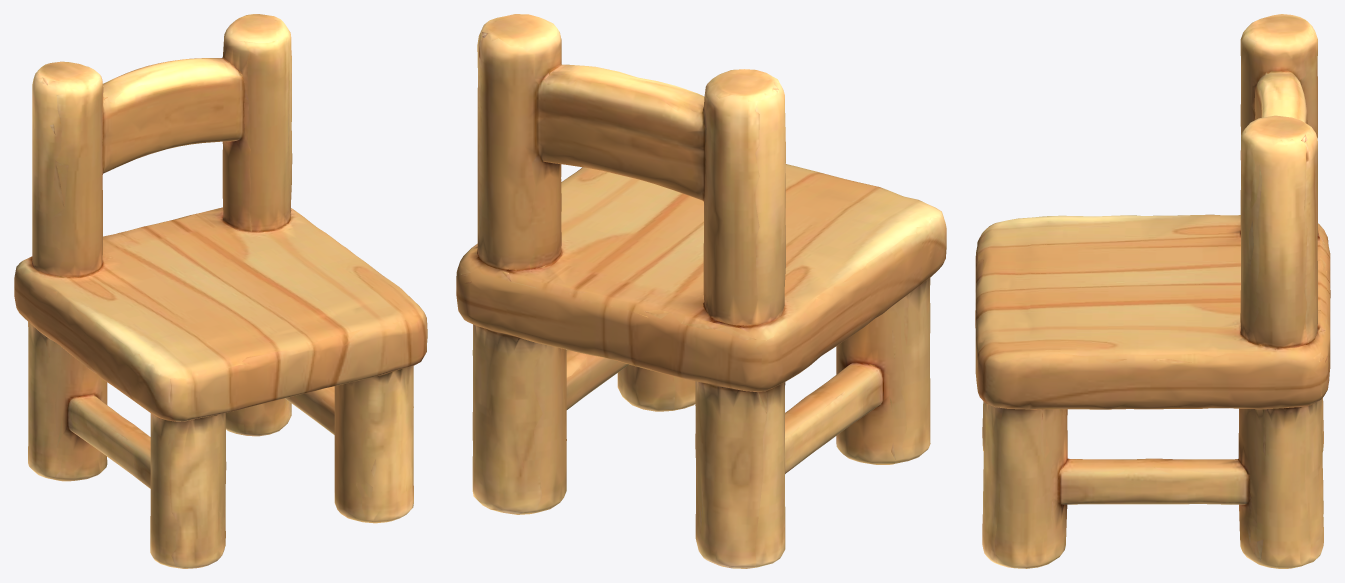
File: Wood_chair.glb
The picture shows the model from 3 angles, left to right: view 1: azimuth 30°, elevation 25°; view 2: azimuth 150°, elevation 25°; view 3: azimuth 270°, elevation 25°; orthographic projection. The views are drawn at different scales.
Visible parts, largest first — view 1: Mesh_0; view 2: Mesh_0; view 3: Mesh_0.
Part boxes in pixels (x1,y1,x2,y2): Mesh_0: [14, 14, 427, 568]; Mesh_0: [456, 14, 946, 568]; Mesh_0: [975, 14, 1330, 568].
Bounding box in the file's own units: 1.39 × 1.91 × 1.43.
1 material, 1 textured.
